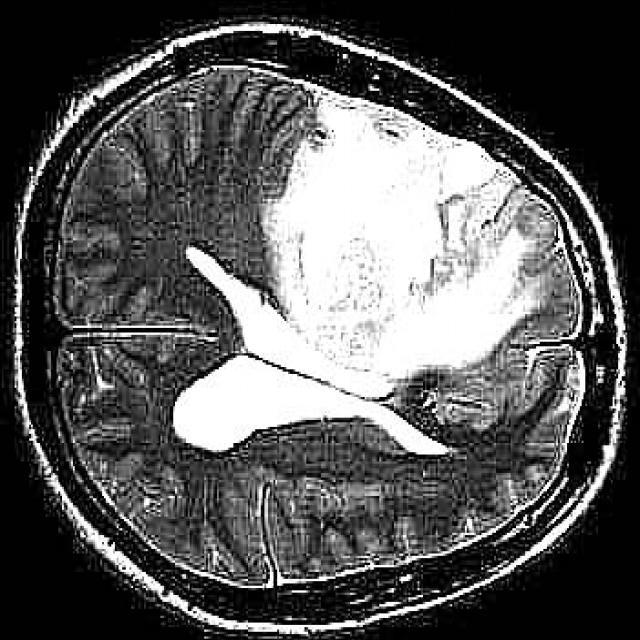tumor: (173, 85, 542, 454)
